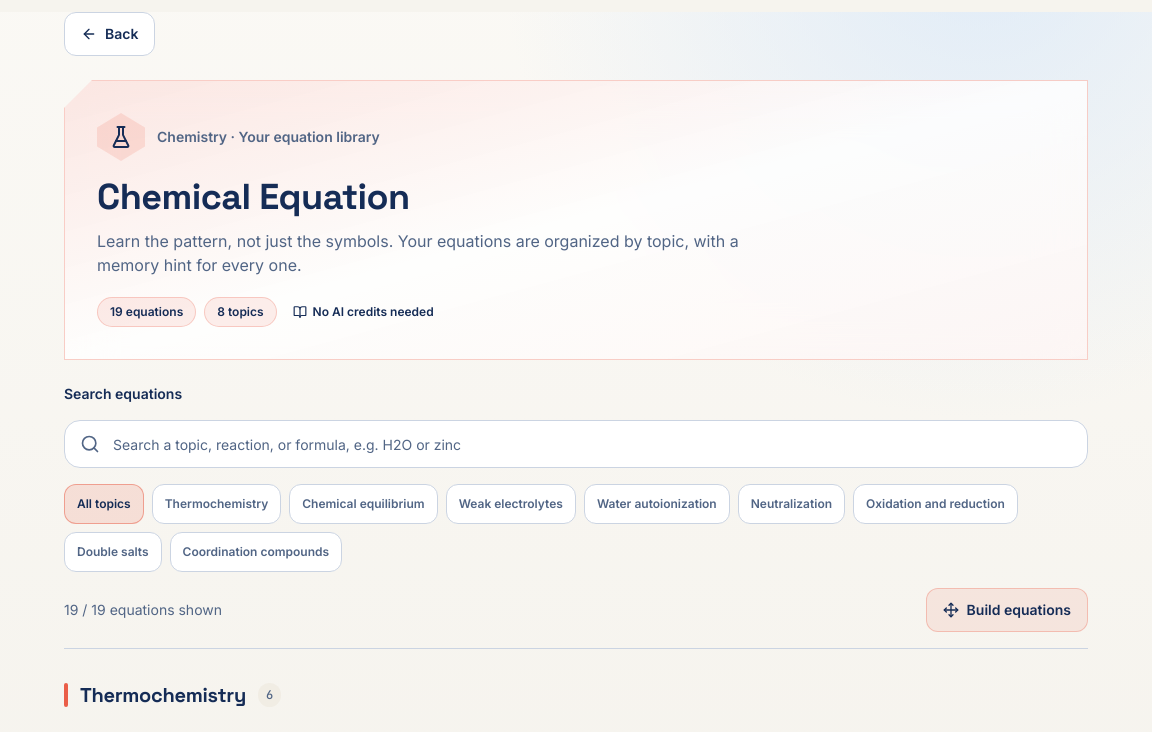
Test: Chemical Equation tool › filters topics and searches within the selected topic
Later steps or results of the test are not shown.
What coordinates should you click on to do the following:
click the button "Oxidation and reduction"
I would click on:
 (935, 504)
Its box is [853,484,1018,524].
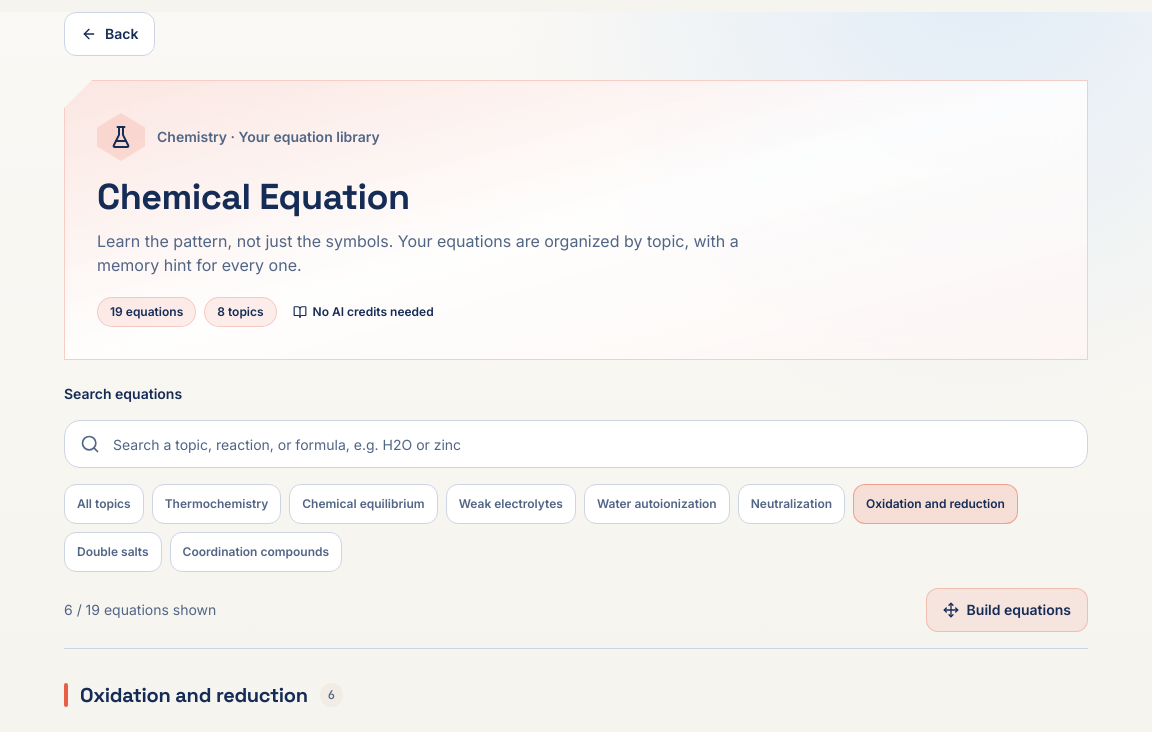
Expected: the button "Oxidation and reduction" is pressed, [853,484,1018,524]
